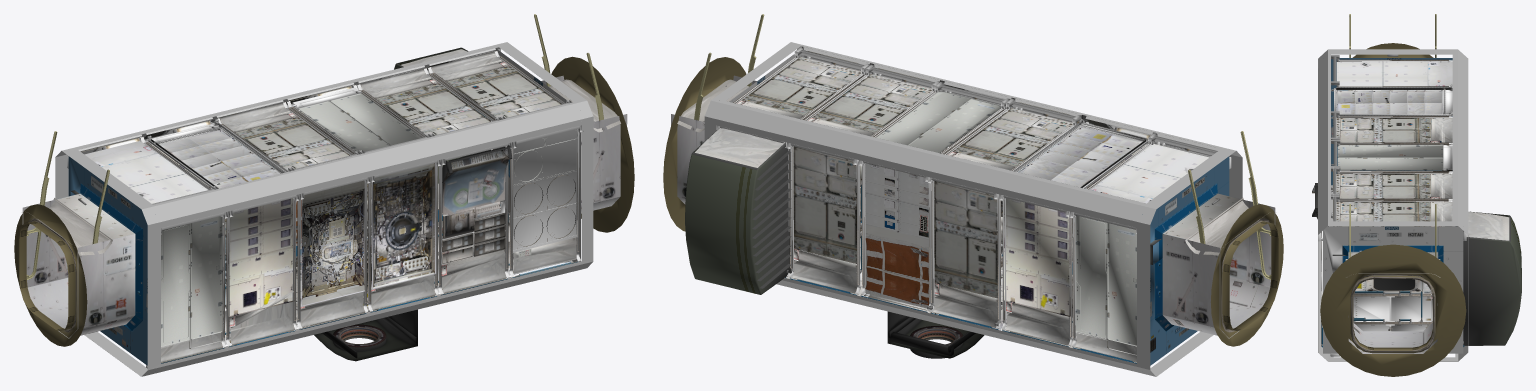
File: iss-interior.glb
3 renders of one model, left to right at view 1: azimuth 30°, elevation 25°; view 2: azimuth 150°, elevation 25°; view 3: azimuth 270°, elevation 25°, orthographic. The views are drawn at different scales.
Visible parts, largest first — view 1: US_Lab_Int_AFT_Bulkhead; view 2: US_Lab_Int_AFT_Bulkhead; view 3: US_Lab_Int_AFT_Bulkhead.
Boxes of the visible parts, box(x1,y1,x2,y2) form: US_Lab_Int_AFT_Bulkhead: box(14, 14, 634, 376); US_Lab_Int_AFT_Bulkhead: box(663, 14, 1283, 376); US_Lab_Int_AFT_Bulkhead: box(1312, 14, 1521, 376).
Size of the model in its own units: 7.98 by 3.62 by 3.21.
Materials: 9 (9 with a texture image).
